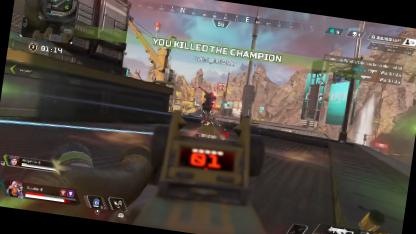Target: (197, 88, 217, 118)
